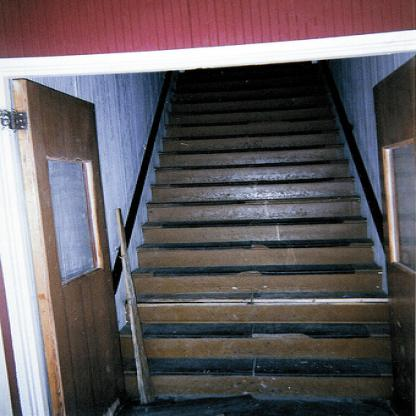stairs: (154, 192, 367, 402)
